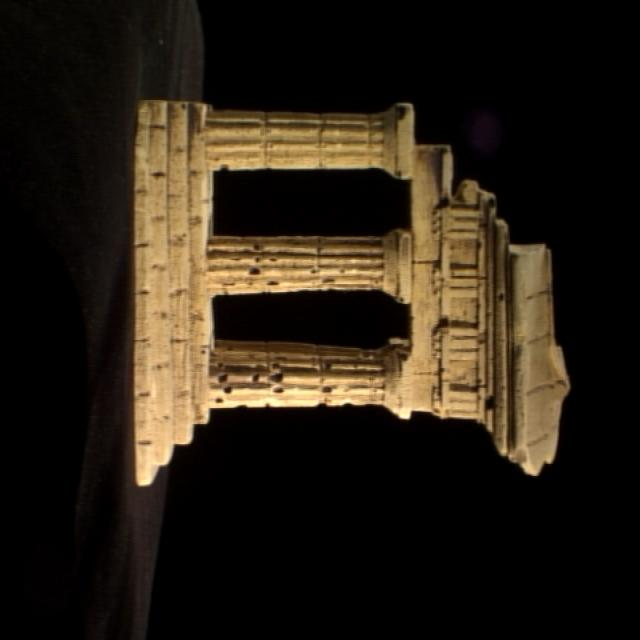Instance-Segmentation: (133, 100, 567, 483)
